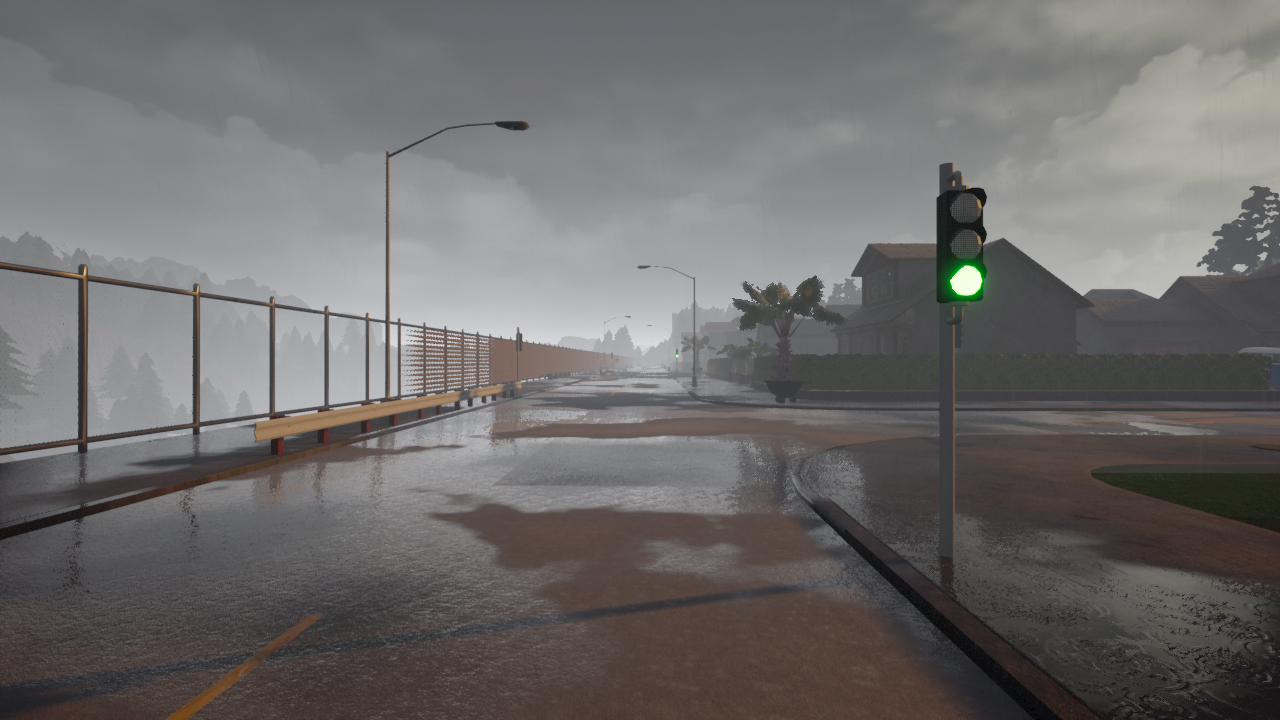green: (930, 185, 990, 307)
